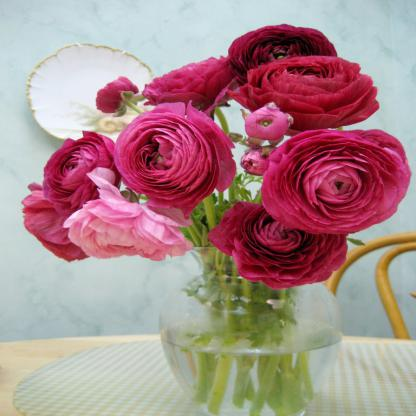vase: (158, 246, 343, 416)
